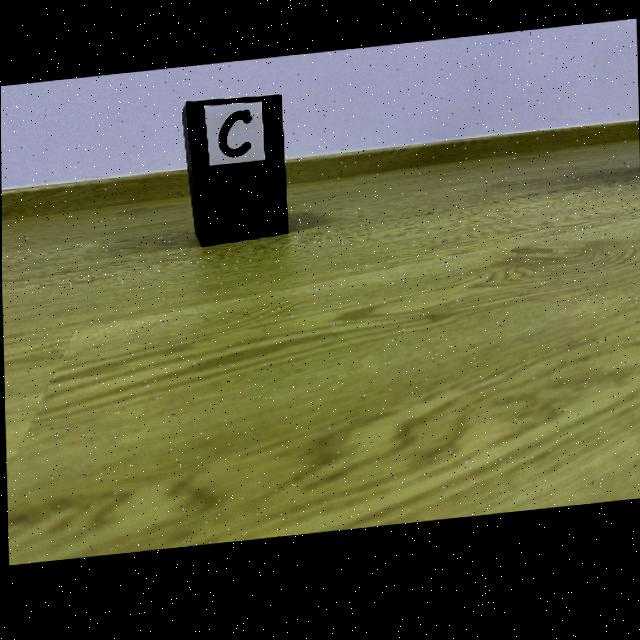C: (218, 113, 251, 161)
